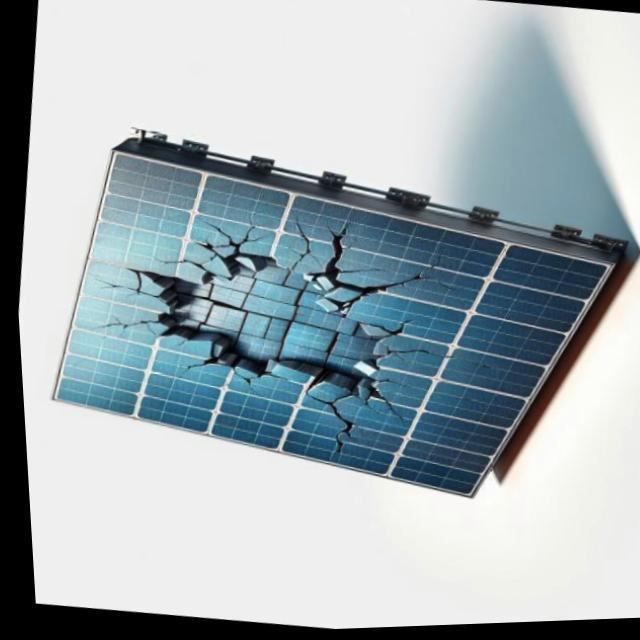Anomaly Solar Panel: (47, 152, 604, 520)
Structural Damage: (119, 231, 399, 410), (297, 380, 364, 461), (371, 253, 451, 313), (383, 345, 488, 382), (186, 220, 269, 259), (87, 265, 155, 303), (84, 313, 154, 344), (278, 221, 308, 272), (148, 252, 203, 278), (219, 369, 261, 400), (318, 228, 343, 276), (168, 357, 214, 382), (346, 393, 371, 423), (385, 314, 412, 341), (374, 401, 397, 425), (368, 380, 405, 394), (333, 271, 387, 277)
